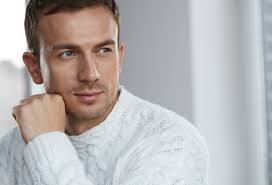s.white: (94, 58, 118, 85)
